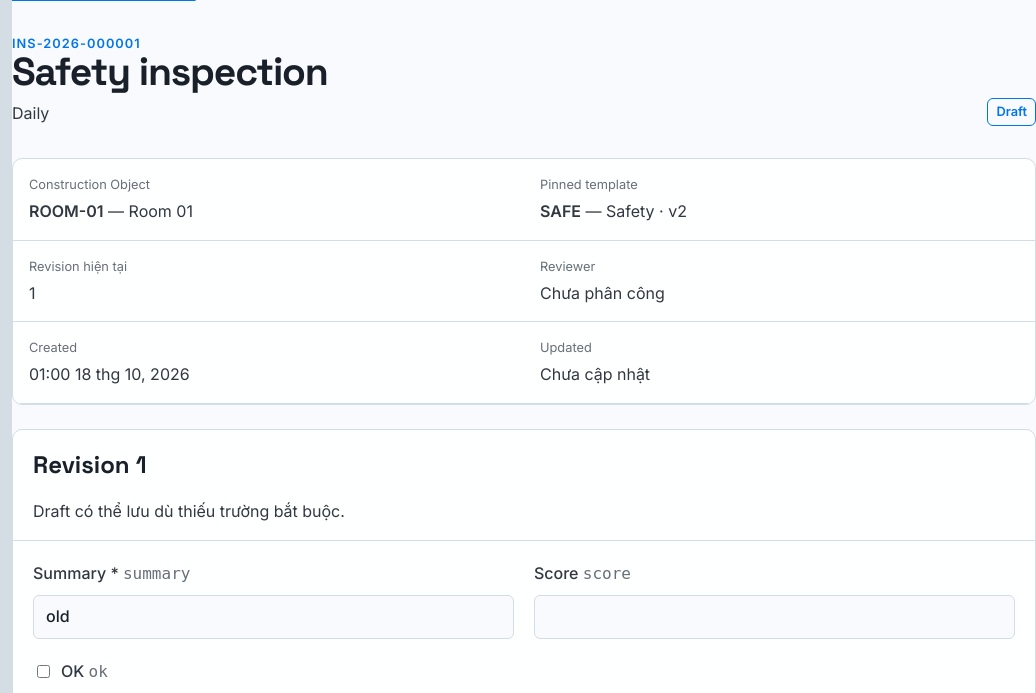
Test case: Inspection Draft UI › keeps local input after a failed Save
Replace the text in the field labelled "Summary * summary" with "keep after failure" at (274, 617), box left=33, top=595, right=514, bottom=639
(page scrolled)
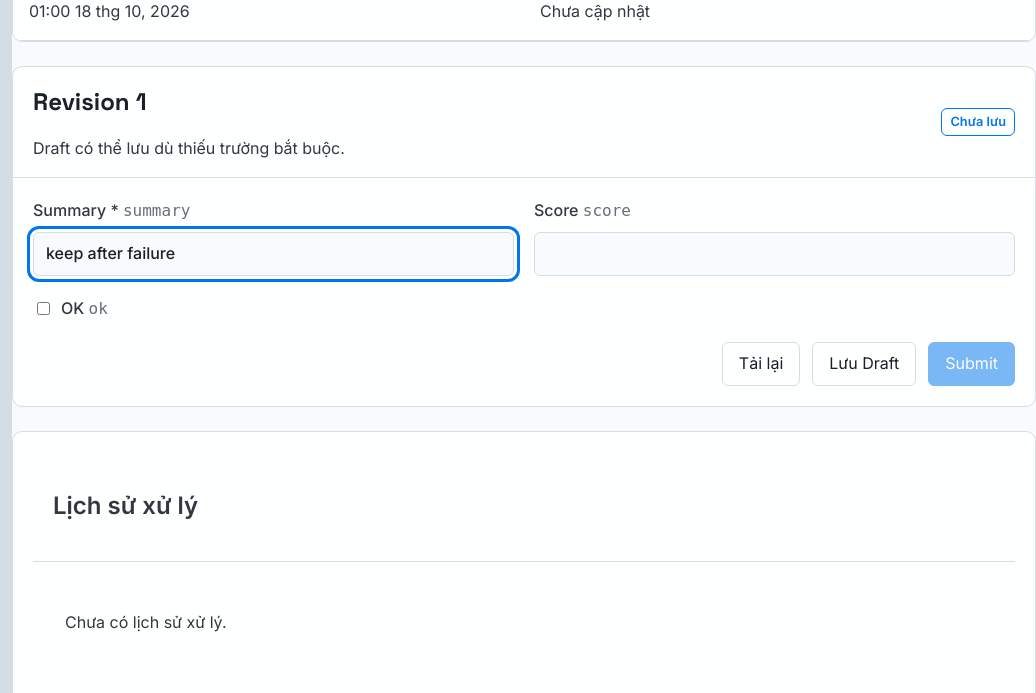
Click the button "Lưu Draft" at (864, 364), box left=812, top=342, right=916, bottom=386
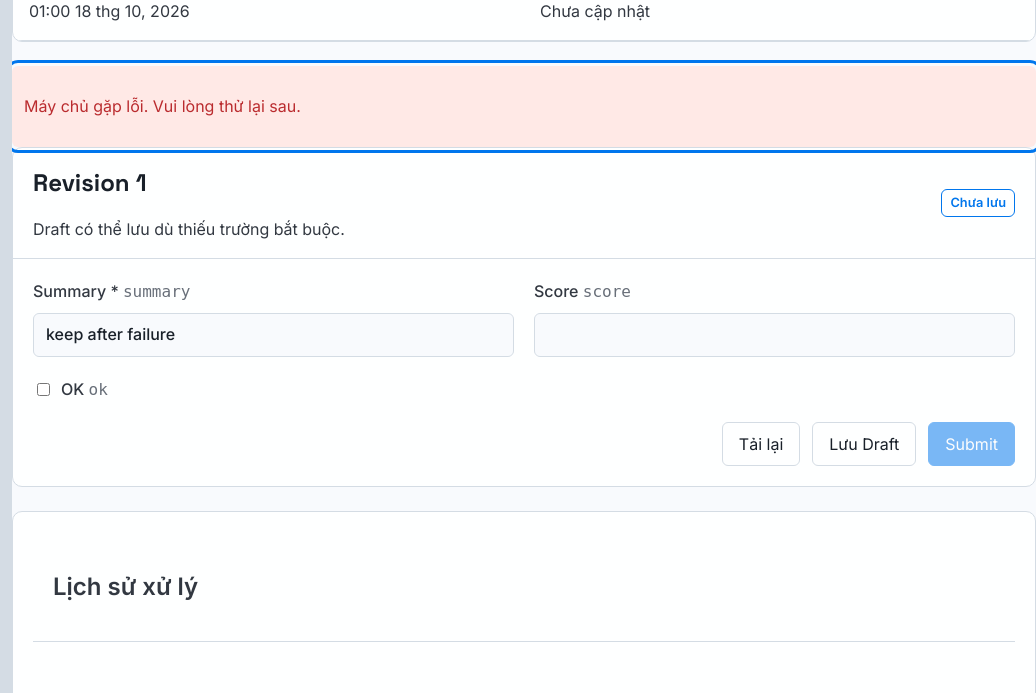
expect the message shows "Máy chủ gặp lỗi": met, box left=24, top=96, right=301, bottom=116
